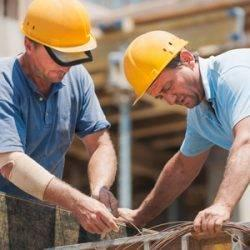helmet: (123, 31, 189, 103), (22, 1, 95, 52)
